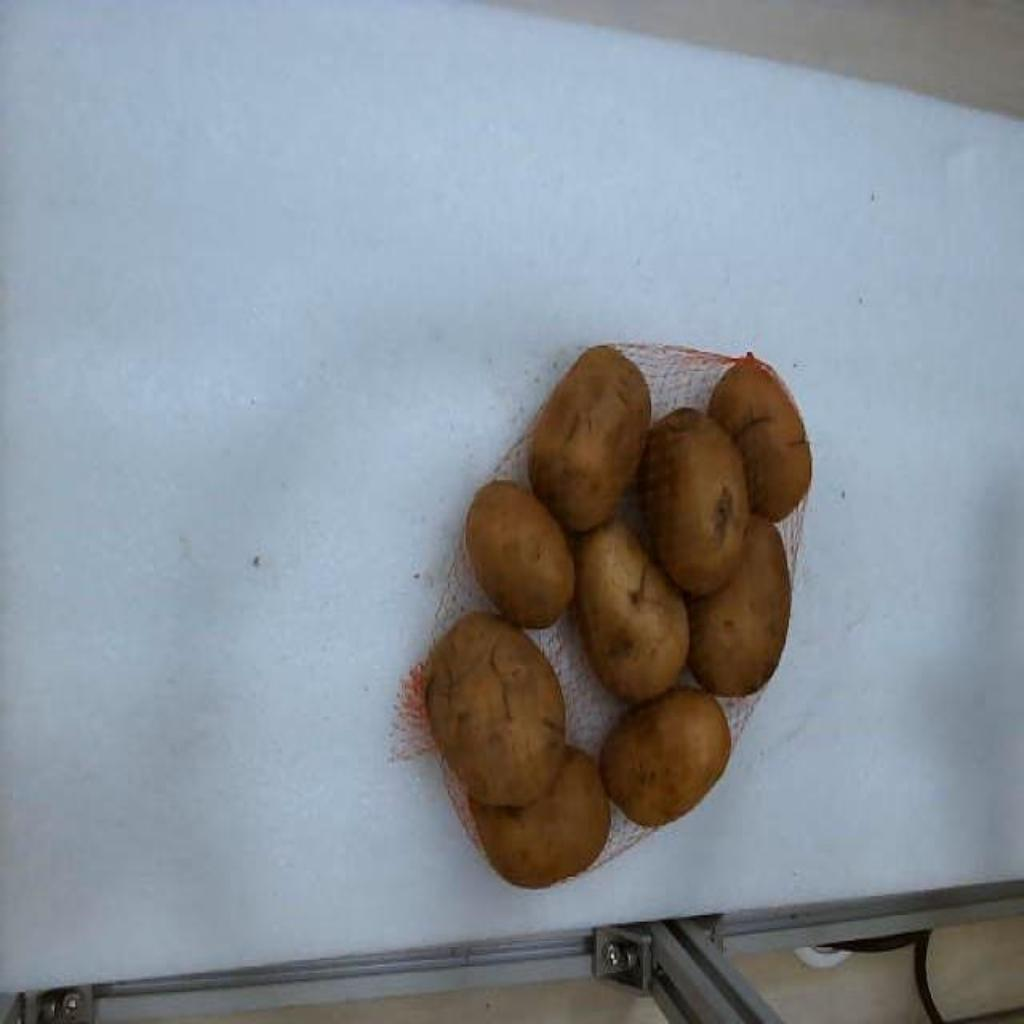potato: (426, 613, 562, 804), (530, 347, 650, 529), (574, 523, 690, 703), (640, 408, 750, 595), (470, 747, 610, 888), (688, 515, 792, 695), (600, 688, 732, 825), (708, 355, 812, 521), (466, 480, 574, 628)
